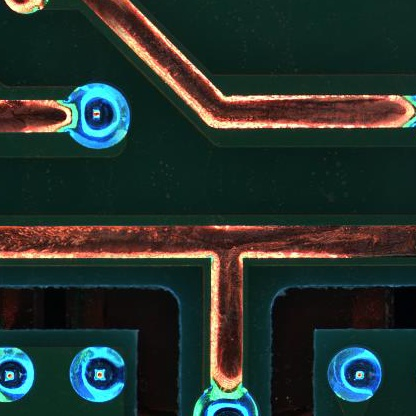spot: (68, 82, 131, 151), (68, 344, 127, 403), (326, 346, 382, 402), (1, 344, 36, 403)
